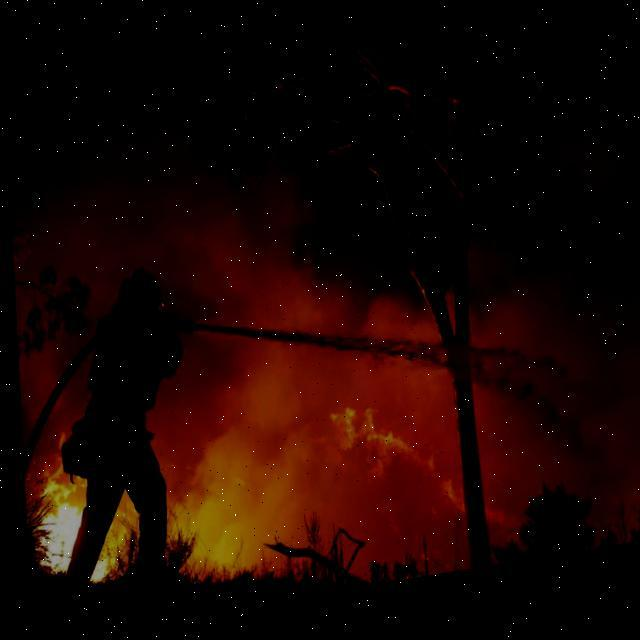Fire: (32, 365, 459, 619)
